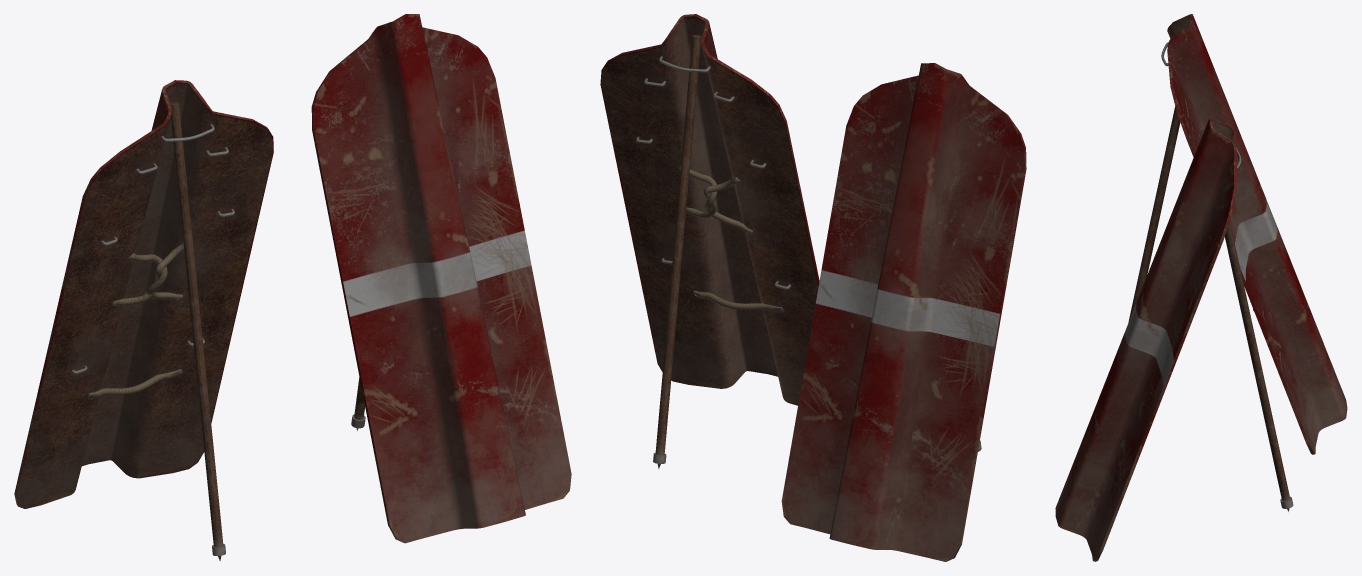
The model's file is escudo pasivo.draco.glb.
3 views of the same model, side by side, from view 1: azimuth 30°, elevation 25°; view 2: azimuth 150°, elevation 25°; view 3: azimuth 270°, elevation 25° (orthographic). The views are drawn at different scales.
Visible parts, largest first — view 1: Pavise_Shield001, Pavise_Shield, Pavise_Shield_Support; view 2: Pavise_Shield, Pavise_Shield001, Pavise_Shield_Support001; view 3: Pavise_Shield001, Pavise_Shield, Pavise_Shield_Support001, Pavise_Shield_Support.
Part boxes in pixels (x1,y1,x2,y2): Pavise_Shield001: (311, 14, 571, 543); Pavise_Shield: (14, 80, 273, 508); Pavise_Shield_Support: (170, 102, 225, 561); Pavise_Shield: (781, 63, 1026, 561); Pavise_Shield001: (600, 14, 819, 405); Pavise_Shield_Support001: (653, 35, 701, 468); Pavise_Shield001: (1055, 117, 1241, 561); Pavise_Shield: (1161, 14, 1347, 454); Pavise_Shield_Support001: (1225, 221, 1293, 511); Pavise_Shield_Support: (1128, 106, 1180, 322).
Bounding box in the file's own units: 1.11 × 1.11 × 0.7253.
2 materials, 2 textured.
